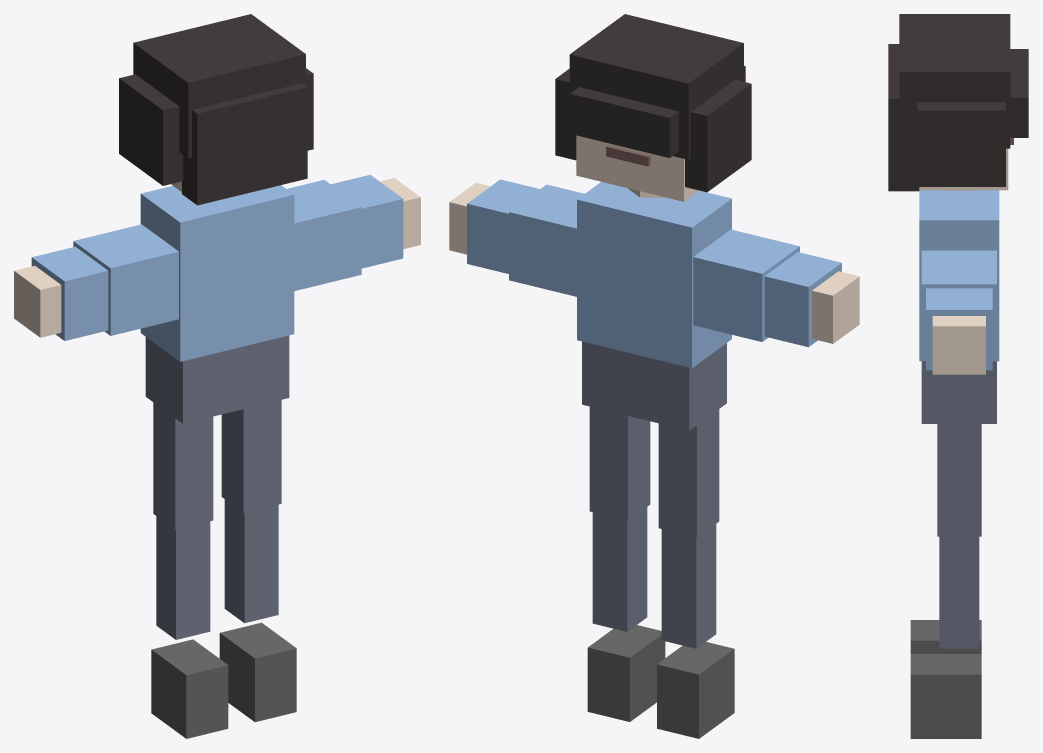
File: Elfan_Game.glb
The picture shows the model from 3 angles, left to right: view 1: azimuth 30°, elevation 25°; view 2: azimuth 150°, elevation 25°; view 3: azimuth 270°, elevation 25°; orthographic projection.
Visible parts, largest first — view 1: Elfan_Body, Elfan_Hair; view 2: Elfan_Body, Elfan_Hair; view 3: Elfan_Body, Elfan_Hair.
Part boxes in pixels (<box>): Elfan_Body: <box>14,174,420,738</box>; Elfan_Hair: <box>119,14,313,205</box>; Elfan_Body: <box>449,135,859,738</box>; Elfan_Hair: <box>555,14,751,192</box>; Elfan_Body: <box>910,138,1013,738</box>; Elfan_Hair: <box>888,14,1028,191</box>.
Size of the model in its own units: 1 by 1.66 by 0.316.
